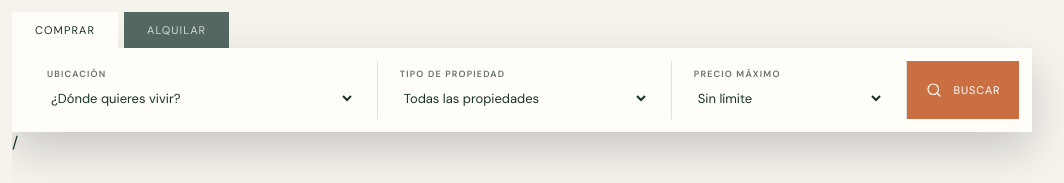
Test: SearchPanel › permite buscar sin filtros adicionales
Click the button "Buscar" at (963, 90), box [907,61,1019,119]
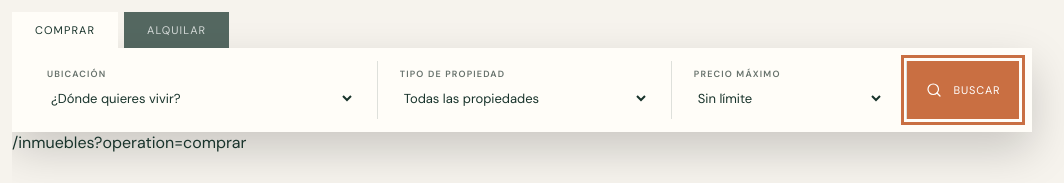
Now the text named "Dirección actual" reads "/inmuebles?operation=comprar", box [12,132,246,153]
